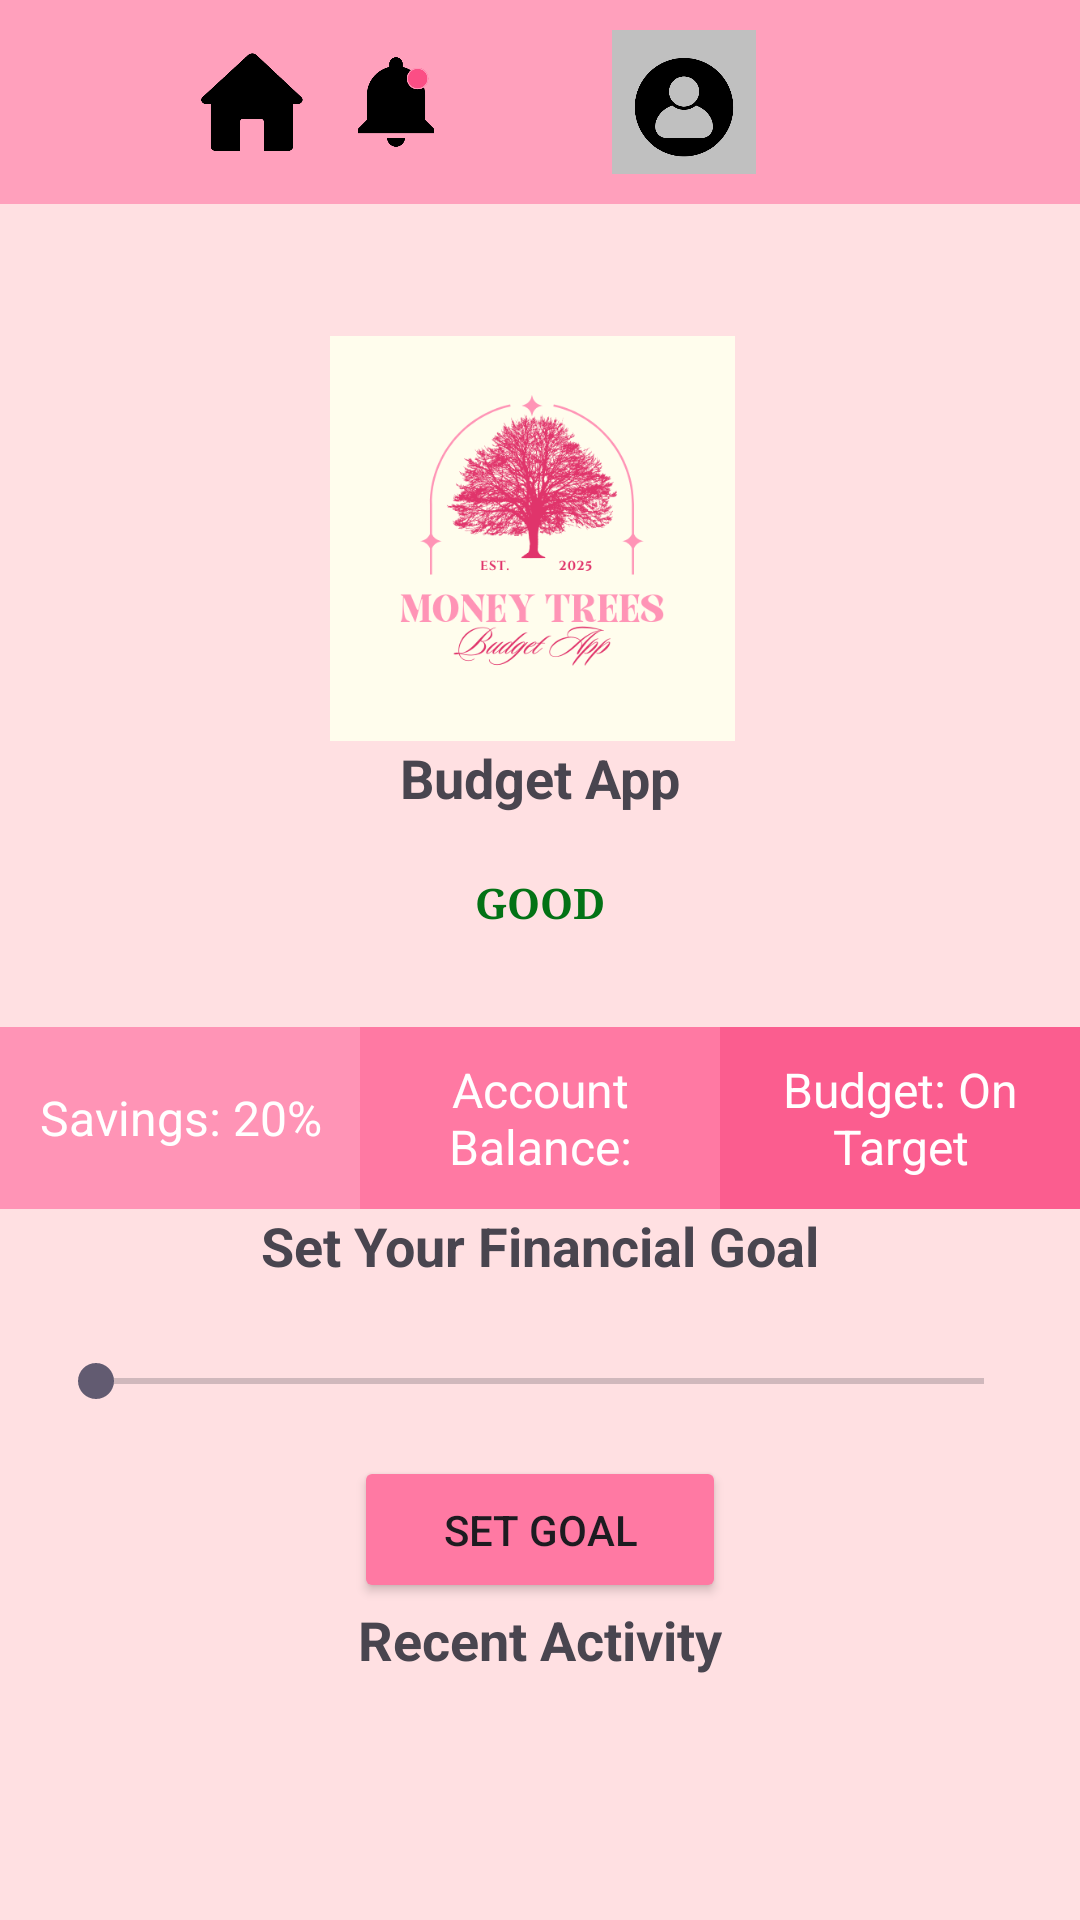

Named icons in this screenshot (1080×1920) and their bounding boxes, (x1, y1, x2, y2):
Profile: (612, 30, 756, 174)
